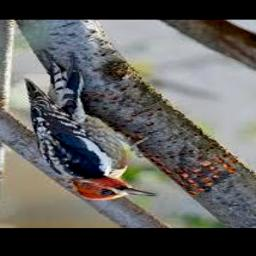Woodpecker: (25, 51, 158, 201)
